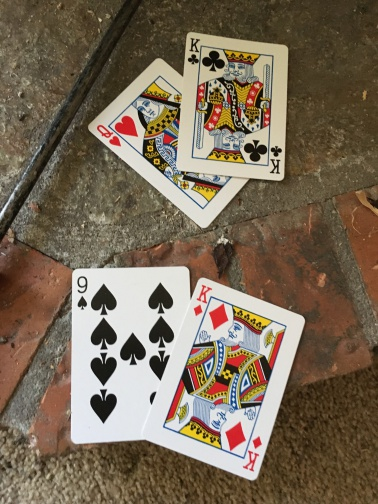king: (142, 277, 300, 480), (179, 31, 293, 183)
nine: (73, 262, 186, 443)
queen: (85, 57, 253, 227)
